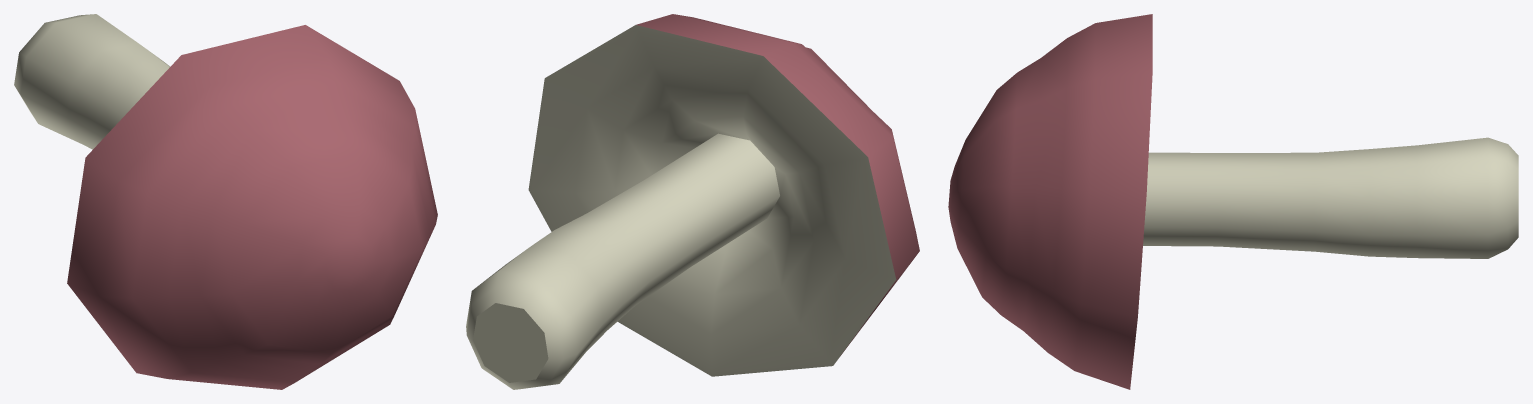
The model's file is SM_Mushroom_01.fbx.
3 renders of one model, left to right at view 1: azimuth 30°, elevation 25°; view 2: azimuth 150°, elevation 25°; view 3: azimuth 270°, elevation 25°, orthographic. The views are drawn at different scales.
Visible parts, largest first — view 1: SM_Mushroom_01; view 2: SM_Mushroom_01; view 3: SM_Mushroom_01.
Boxes of the visible parts, x1,y1,x2,y2 form: SM_Mushroom_01: (14, 14, 437, 389); SM_Mushroom_01: (466, 14, 919, 389); SM_Mushroom_01: (948, 14, 1518, 389).
Size of the model in its own units: 103 by 92.25 by 144.
